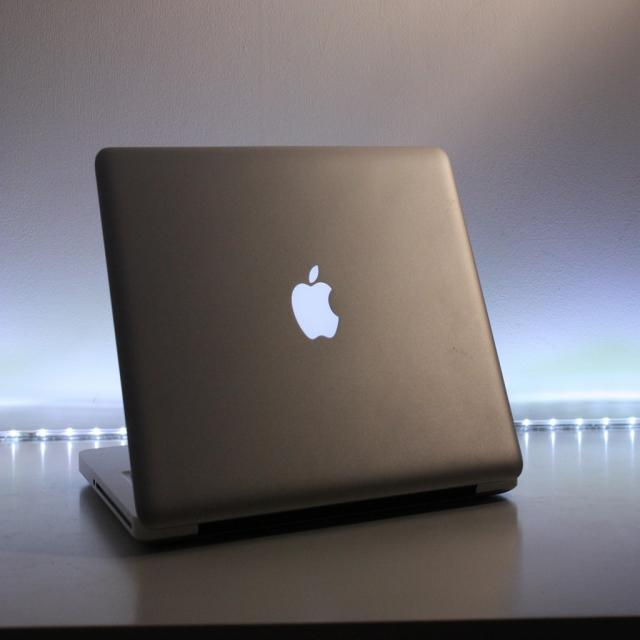apple: (288, 258, 344, 347)
